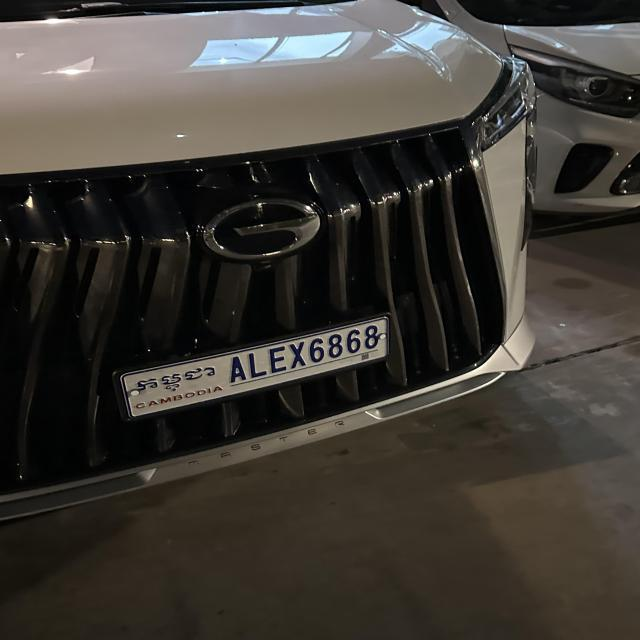Cambodia: (132, 362, 218, 394)
